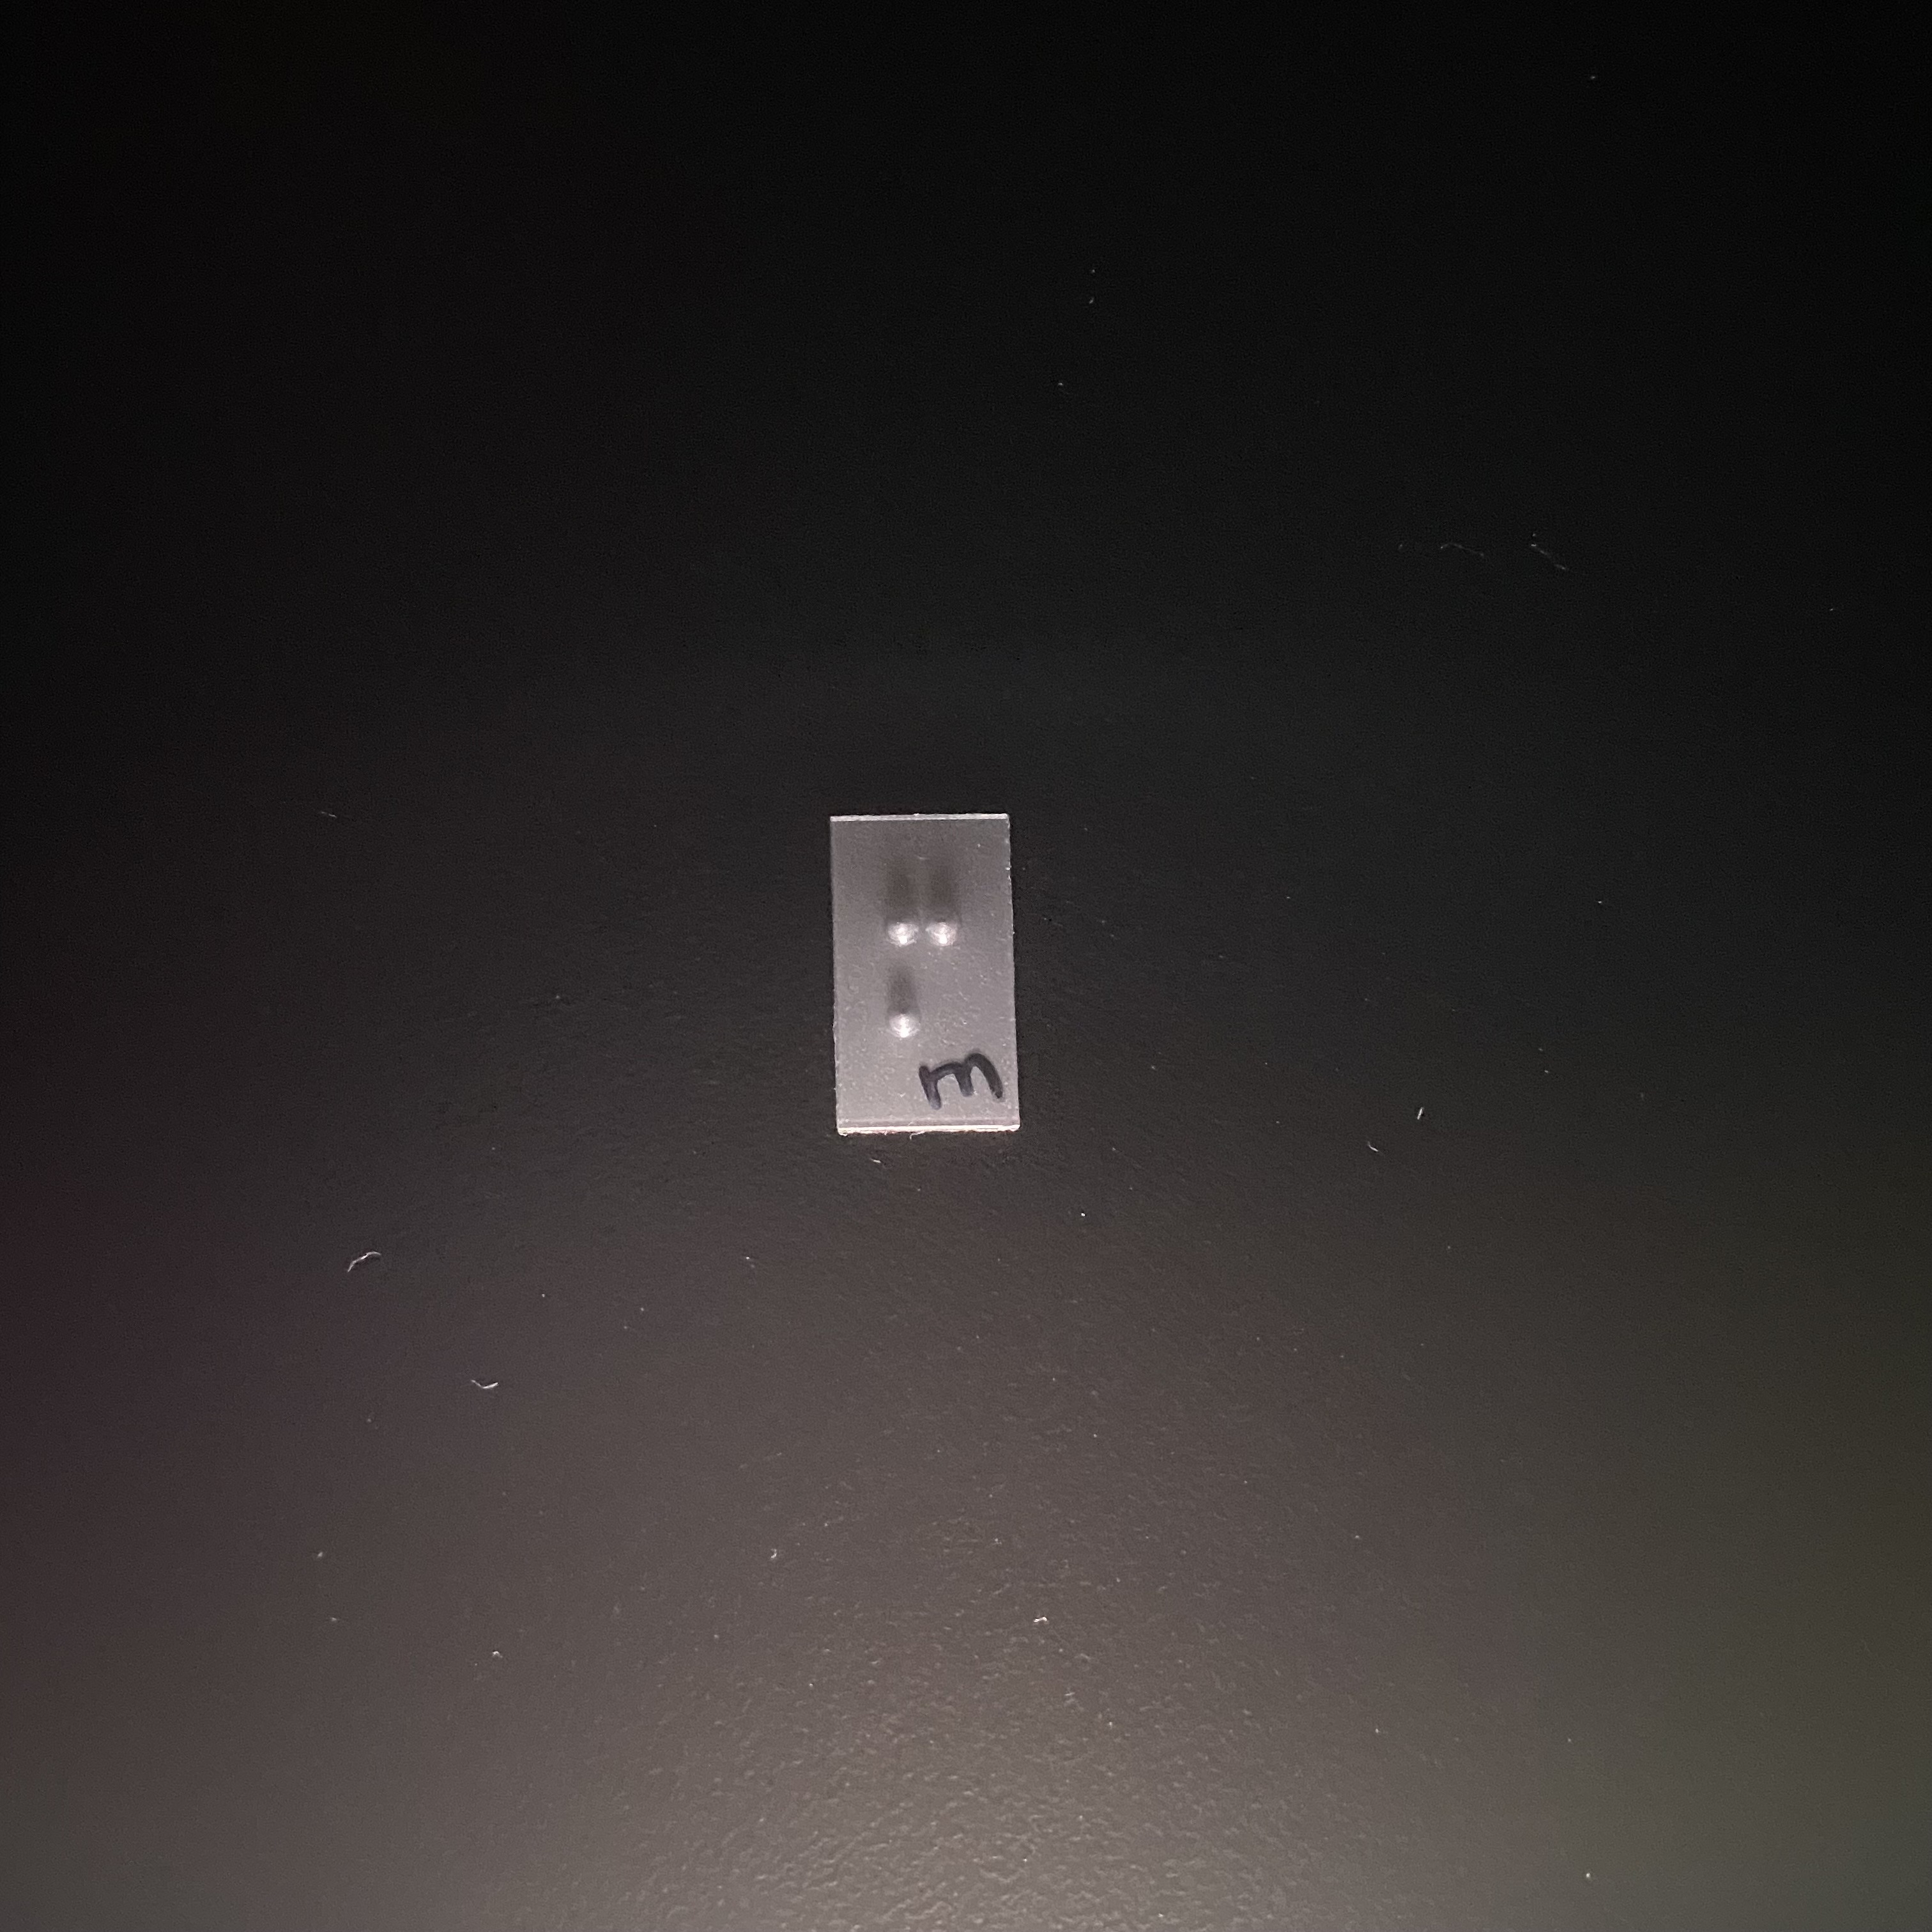m: (864, 863, 985, 1039)
